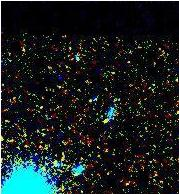star: (87, 105, 117, 135)
